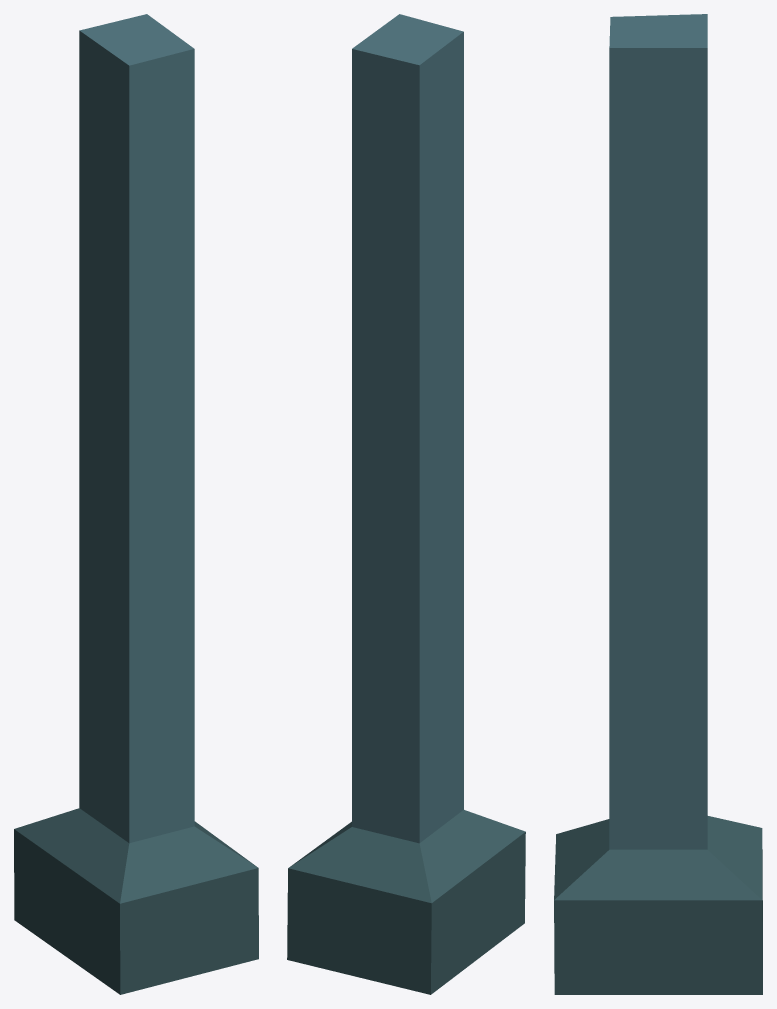
Rendered from Vent_2_D_8.fbx.
The picture shows the model from 3 angles, left to right: view 1: azimuth 30°, elevation 25°; view 2: azimuth 150°, elevation 25°; view 3: azimuth 270°, elevation 25°; orthographic projection. The views are drawn at different scales.
Visible parts, largest first — view 1: Vent_2_D_8; view 2: Vent_2_D_8; view 3: Vent_2_D_8.
Part boxes in pixels (x1=…): Vent_2_D_8: x1=14, y1=14, x2=258, y2=994; Vent_2_D_8: x1=287, y1=14, x2=525, y2=994; Vent_2_D_8: x1=554, y1=14, x2=762, y2=994.
Size of the model in its own units: 12.25 by 73.28 by 14.91.
